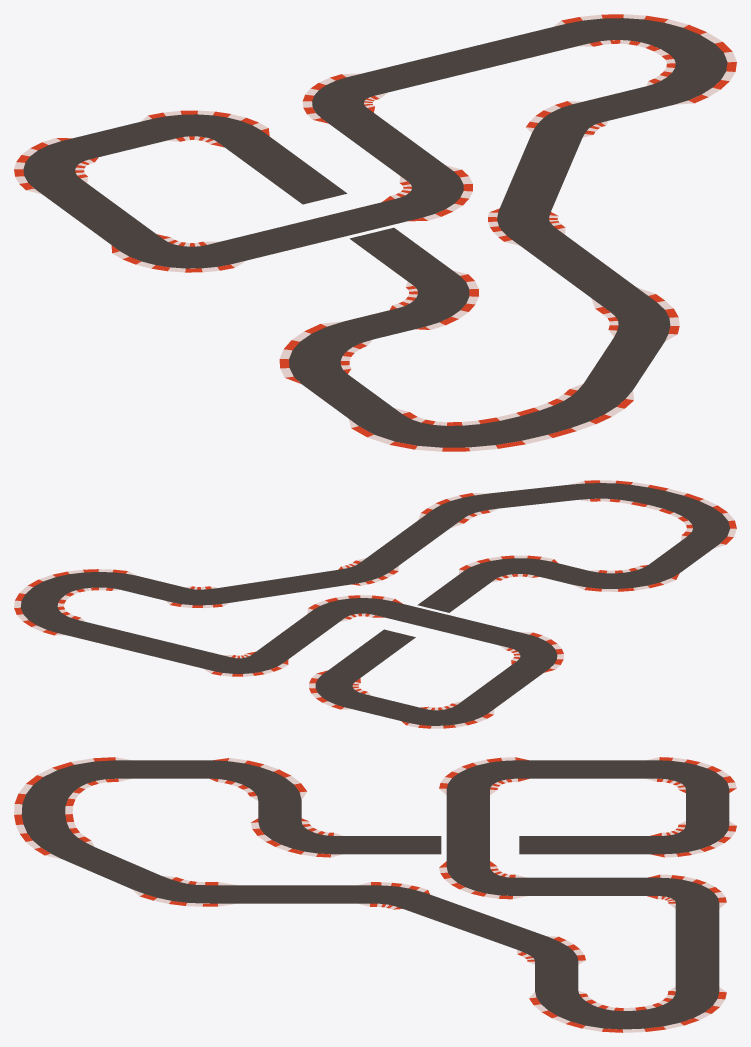
Rendered from scenery.glb.
3 views of the same model, one above another, from view 1: azimuth 30°, elevation 25°; view 2: azimuth 150°, elevation 25°; view 3: azimuth 270°, elevation 25° (orthographic). The views are drawn at different scales.
Parts seen in each view (by area): view 1: refRoad, Cube.076, Cube.049, Cube.078, Cube.071, Cube.079, Cube.066, Cube.072, Cube.067, Cube.075, Cube.064; view 2: refRoad, Cube.076, Cube.049, Cube.078, Cube.079, Cube.072, Cube.067, Cube.071, Cube.075, Cube.066, Cube.064; view 3: refRoad, Cube.076, Cube.049, Cube.078, Cube.079, Cube.071, Cube.075, Cube.067, Cube.072, Cube.066, Cube.064.
Part boxes in pixels (x1,y1,x2,y2): refRoad: (23,18,727,447); Cube.076: (349,384,633,451); Cube.049: (553,14,736,104); Cube.078: (279,321,372,383); Cube.071: (111,234,245,272); Cube.079: (390,270,478,329); Cube.066: (141,110,269,147); Cube.072: (382,165,472,221); Cube.067: (14,138,98,194); Cube.075: (591,287,679,341); Cube.064: (302,73,387,123); refRoad: (20,483,729,725); Cube.076: (571,480,736,548); Cube.049: (14,569,136,635); Cube.078: (572,565,679,591); Cube.079: (459,555,557,582); Cube.072: (307,595,402,621); Cube.067: (402,701,494,728); Cube.071: (500,632,563,672); Cube.075: (418,493,497,528); Cube.066: (309,670,370,709); Cube.064: (203,651,288,676); refRoad: (21,760,729,1029); Cube.076: (14,757,131,859); Cube.049: (529,987,726,1032); Cube.078: (210,758,307,800); Cube.079: (250,818,342,857); Cube.071: (439,757,529,794); Cube.075: (132,876,237,906); Cube.067: (646,757,736,792); Cube.072: (439,861,527,899); Cube.066: (650,821,736,857); Cube.064: (647,874,726,908).
Bounding box in the file's own units: 150 × 0.01 × 167.
2 materials, 1 textured.
